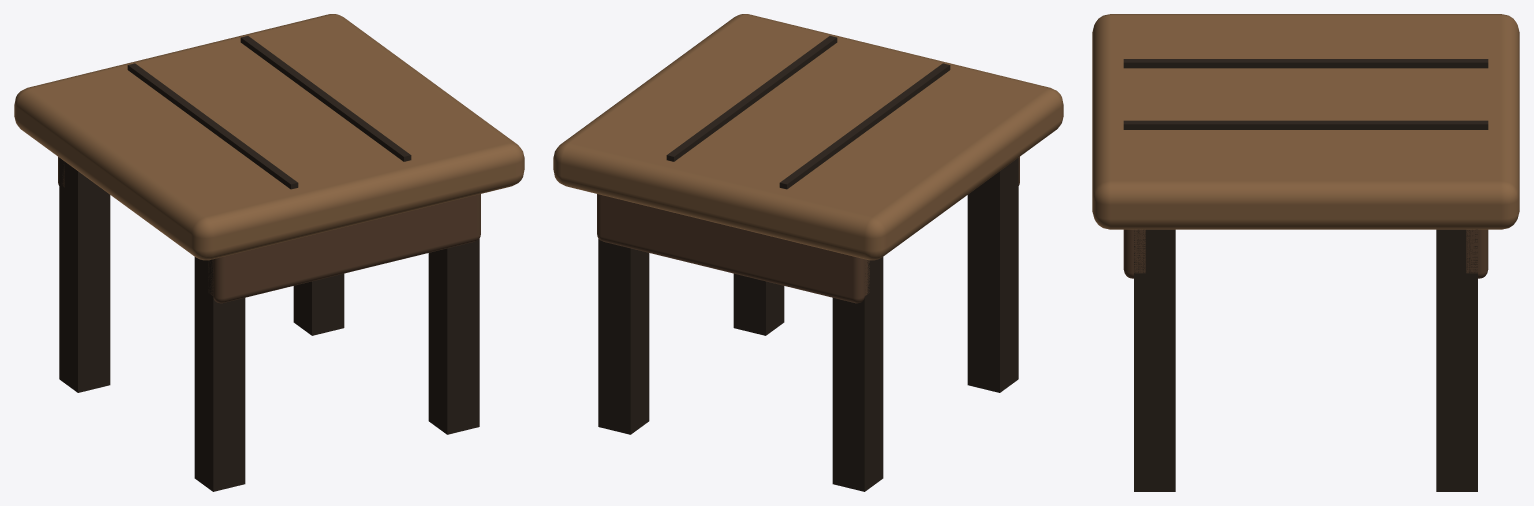
File: sk_table_small.glb
3 renders of one model, left to right at view 1: azimuth 30°, elevation 25°; view 2: azimuth 150°, elevation 25°; view 3: azimuth 270°, elevation 25°, orthographic. The views are drawn at different scales.
Parts seen in each view (by area): view 1: wood; view 2: wood; view 3: wood.
Part boxes in pixels (x1=…): wood: x1=14, y1=14, x2=524, y2=491; wood: x1=553, y1=14, x2=1063, y2=491; wood: x1=1092, y1=14, x2=1519, y2=491.
Size of the model in its own units: 0.82 by 0.694 by 0.82.
